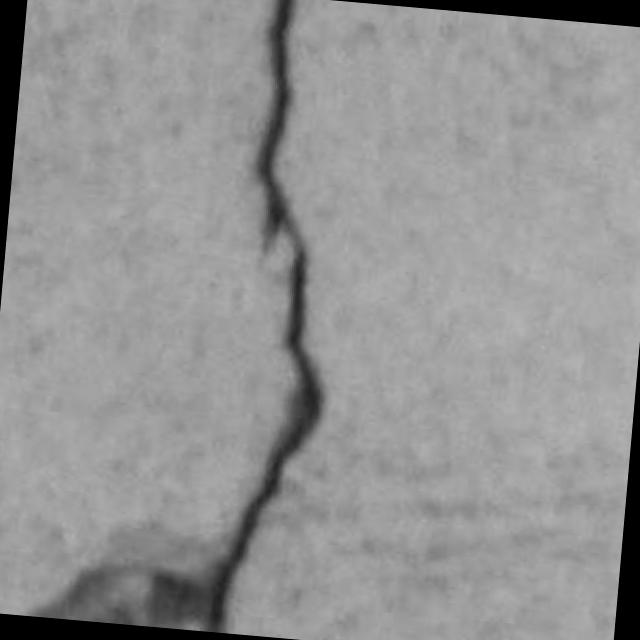crack: (31, 0, 323, 632), (205, 0, 323, 632)
